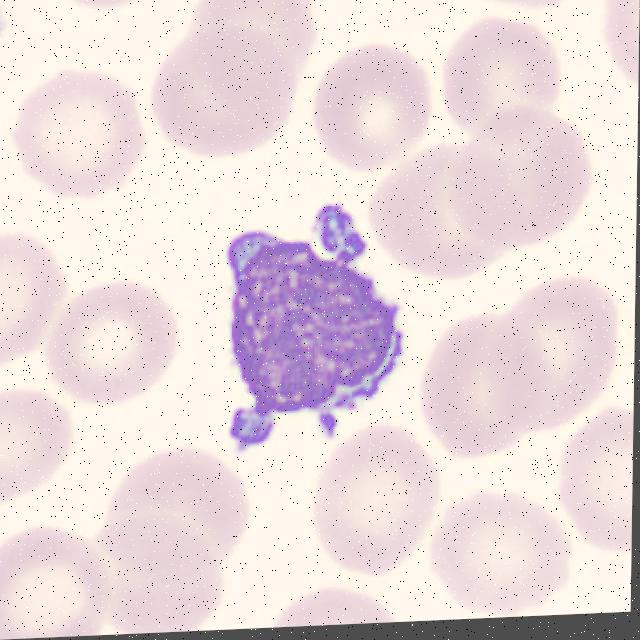eosinophil: (196, 197, 420, 456)
rbc: (107, 444, 256, 591), (318, 410, 450, 568), (489, 278, 618, 435), (459, 110, 591, 250), (378, 139, 515, 271), (434, 320, 552, 459), (14, 67, 144, 190), (109, 500, 224, 635), (58, 275, 182, 400), (450, 8, 570, 137), (156, 37, 292, 148), (310, 49, 431, 169), (437, 506, 567, 617), (0, 525, 110, 640), (554, 399, 633, 541), (0, 222, 79, 357), (0, 376, 77, 510), (187, 0, 324, 67), (275, 580, 404, 627), (598, 0, 640, 84), (47, 0, 143, 9), (459, 0, 591, 3)
